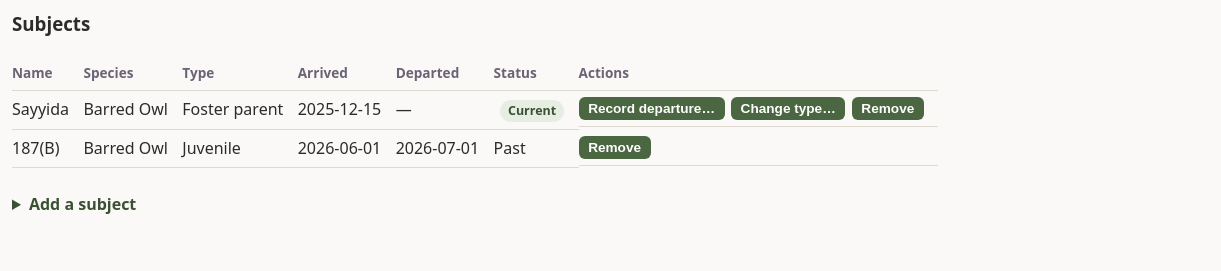
Scenario: SubjectsSection › surfaces the API's refusal when removing a published episode
// In-app confirm (SM-1): arm, then confirm
Step 1. Click the button "Remove" in the row of "Sayyida" → [888, 109], box [852,97,924,120]
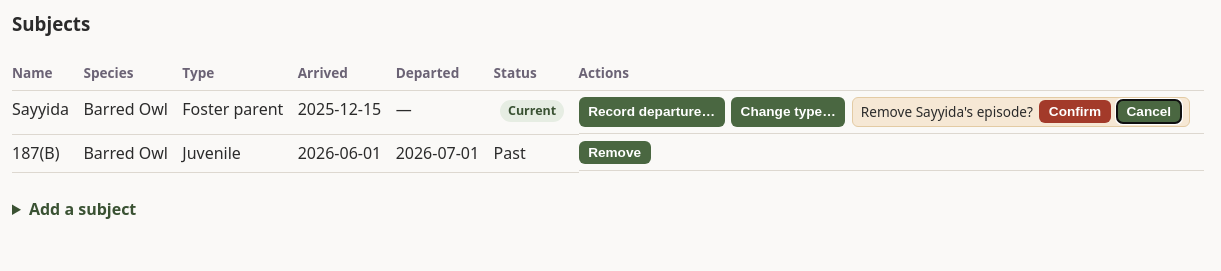
expect the text "Remove Sayyida's episode?" is shown: met, box [861,102,1033,121]
Step 2. Click the button "Confirm" → [1075, 112], box [1039,100,1111,124]
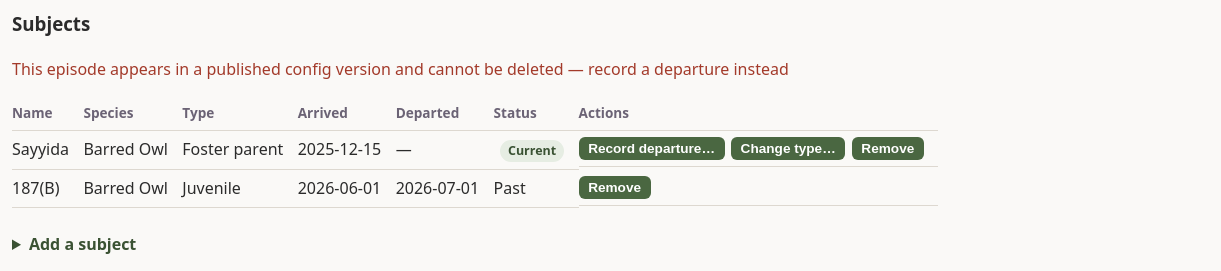
expect the message shows "record a departure instead": met, box [12,58,789,80]
